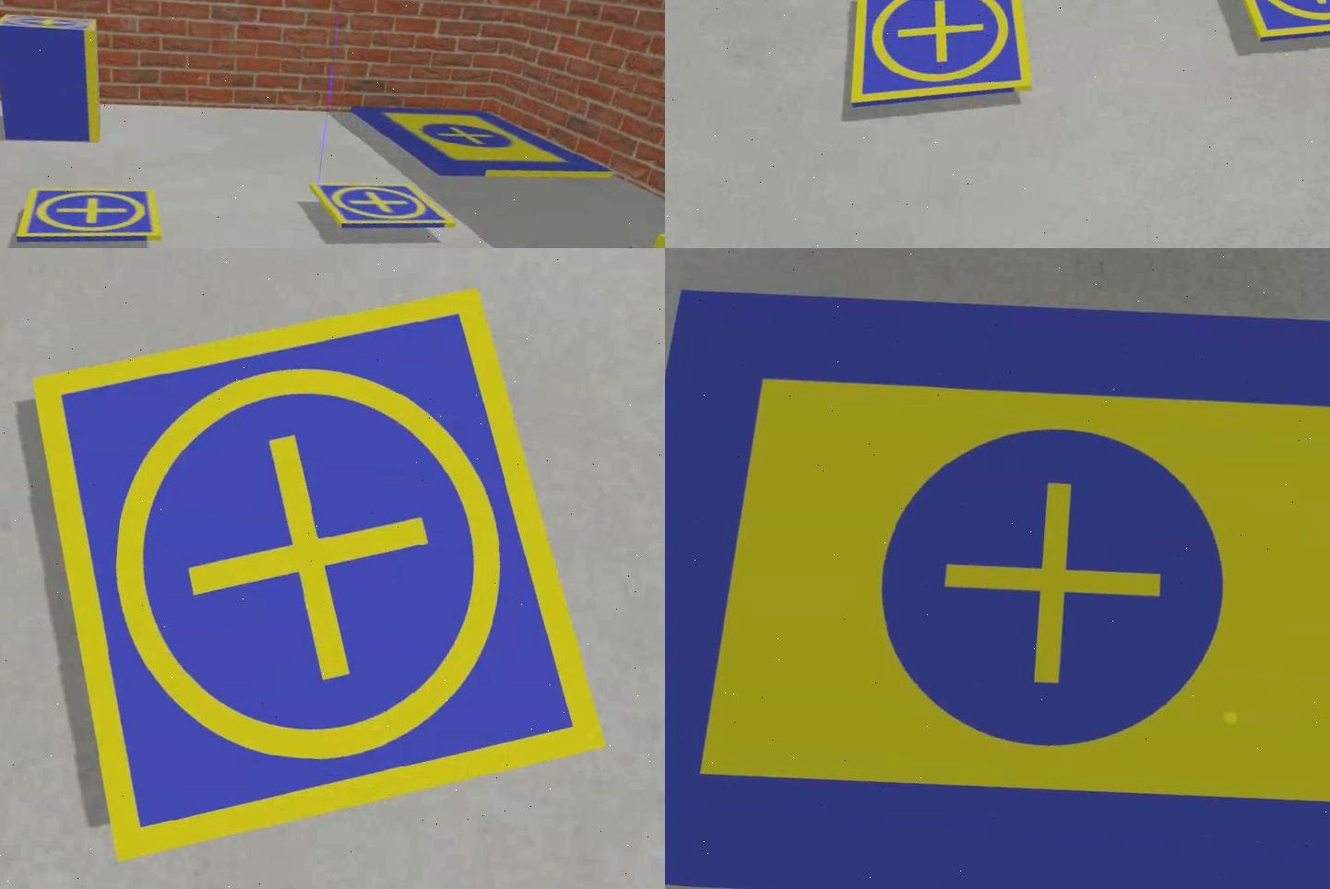large_base: (666, 256, 1330, 889), (349, 96, 622, 192)
small_base: (1, 249, 649, 889), (845, 1, 1046, 127), (15, 178, 166, 249), (310, 179, 457, 243), (1210, 1, 1330, 52), (1, 8, 103, 41)
